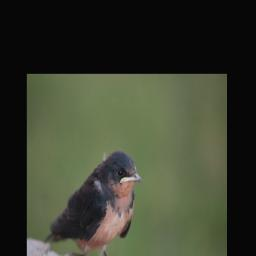Swallow: (44, 149, 143, 256)
